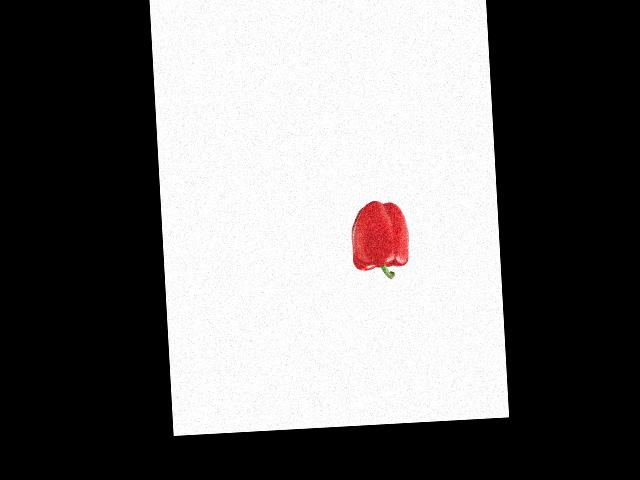bell_pepper: (345, 196, 414, 281)
